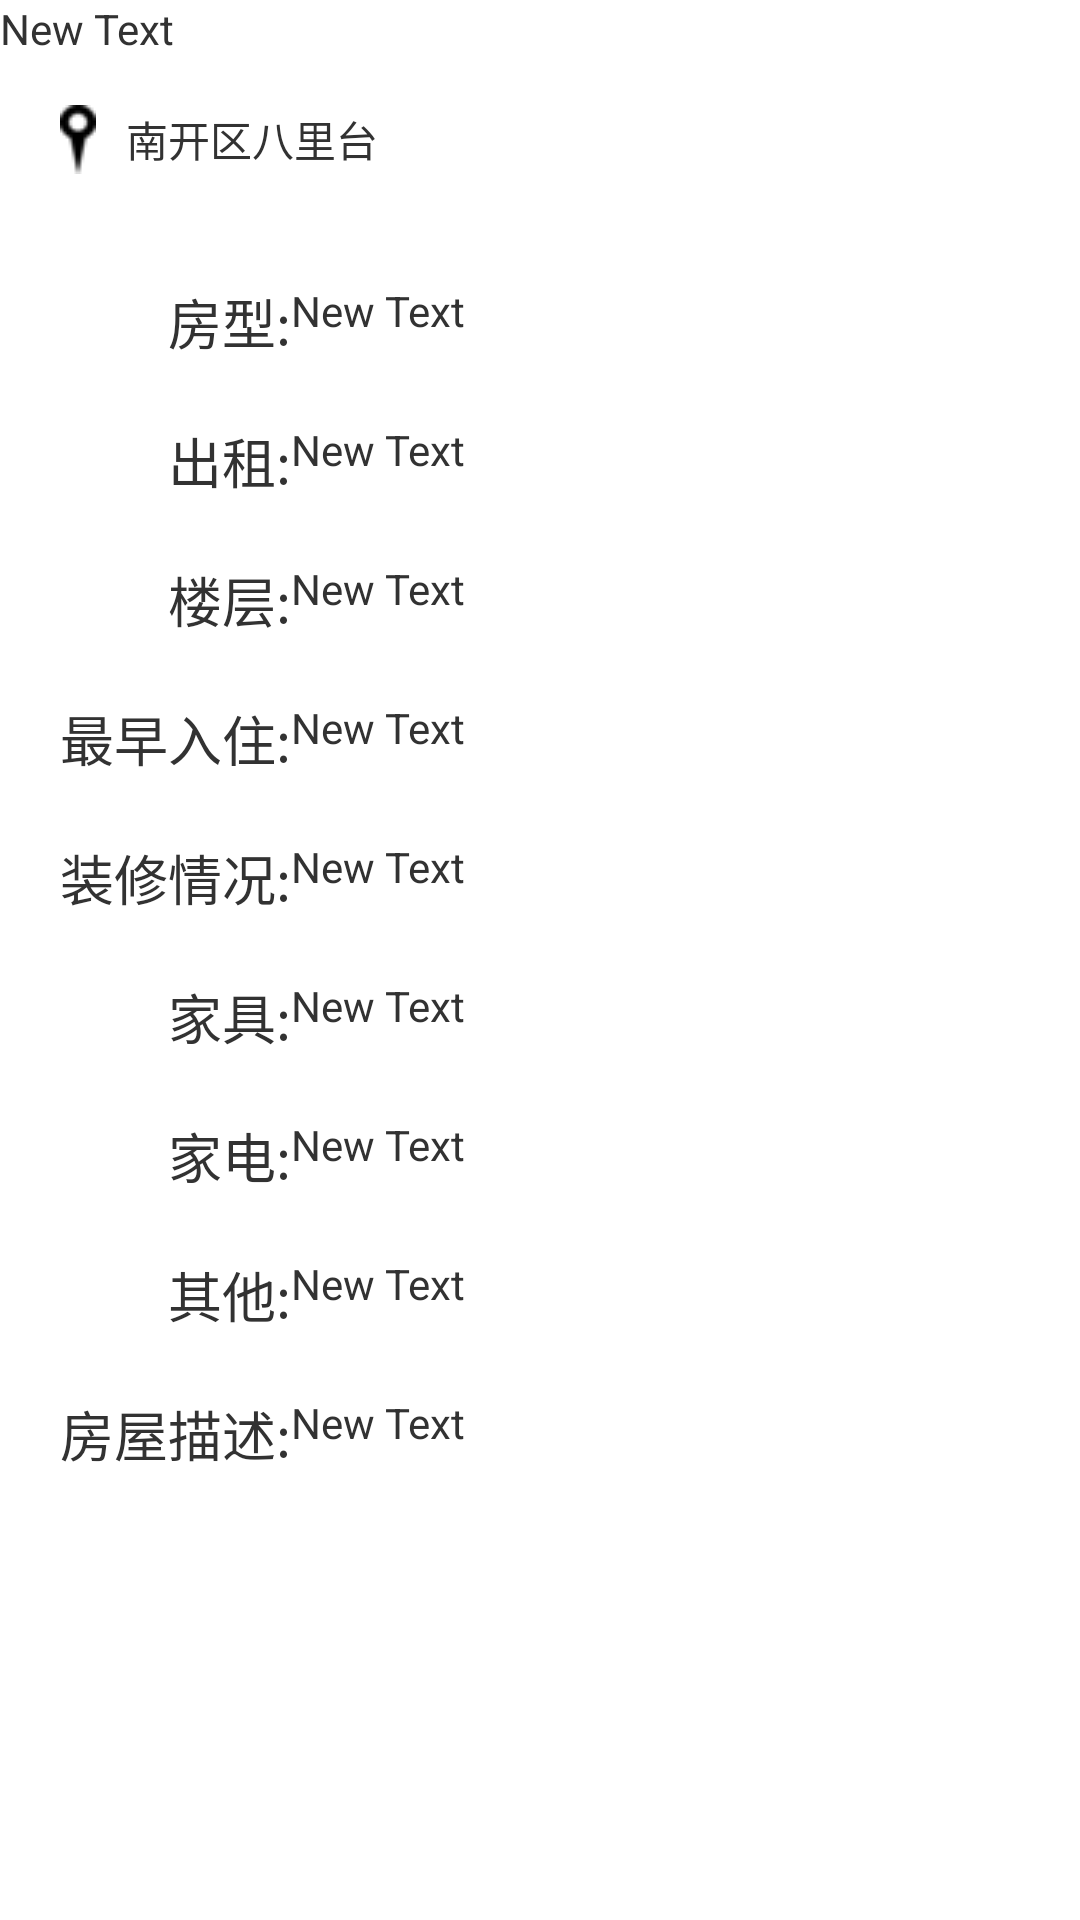

Icon bounding boxes for this 1080w x 1920h phone screenshot, format (x1, y1, x2, y2):
location: (60, 105, 96, 174)
